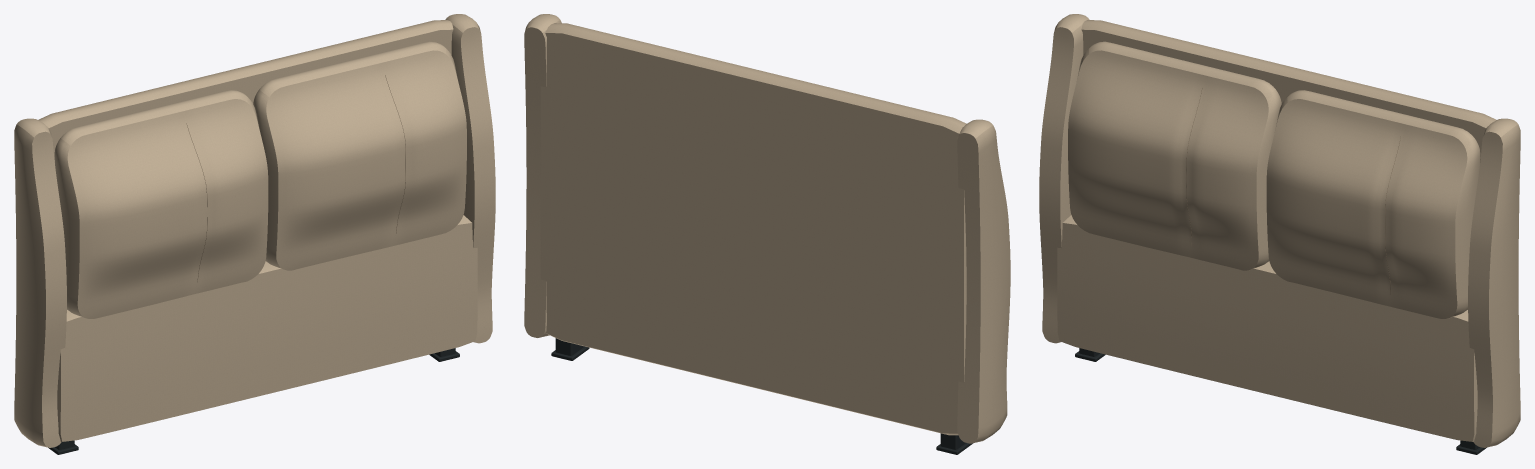
The model's file is 独立落地床屏.glb.
3 views of the same model, side by side, from view 1: azimuth 30°, elevation 25°; view 2: azimuth 150°, elevation 25°; view 3: azimuth 330°, elevation 25° (orthographic).
Parts seen in each view (by area): view 1: Floor_Upholstered_Apron, Back_Cushion_Left, Back_Cushion_Right, Curved_Wing_Left, Headboard_Standing_Back_Frame, Curved_Wing_Right; view 2: Headboard_Standing_Back_Frame, Curved_Wing_Left, Curved_Wing_Right; view 3: Floor_Upholstered_Apron, Back_Cushion_Right, Back_Cushion_Left, Curved_Wing_Right, Headboard_Standing_Back_Frame, Curved_Wing_Left.
Part boxes in pixels (x1=…): Floor_Upholstered_Apron: x1=57, y1=215, x2=477, y2=441; Back_Cushion_Left: x1=54, y1=90, x2=268, y2=318; Back_Cushion_Right: x1=253, y1=41, x2=466, y2=270; Curved_Wing_Left: x1=14, y1=118, x2=66, y2=447; Headboard_Standing_Back_Frame: x1=38, y1=20, x2=453, y2=162; Curved_Wing_Right: x1=445, y1=14, x2=495, y2=343; Headboard_Standing_Back_Frame: x1=540, y1=23, x2=966, y2=435; Curved_Wing_Left: x1=957, y1=119, x2=1010, y2=443; Curved_Wing_Right: x1=524, y1=14, x2=561, y2=337; Floor_Upholstered_Apron: x1=1057, y1=215, x2=1477, y2=441; Back_Cushion_Right: x1=1266, y1=90, x2=1480, y2=318; Back_Cushion_Left: x1=1068, y1=41, x2=1281, y2=270; Curved_Wing_Right: x1=1468, y1=118, x2=1520, y2=447; Headboard_Standing_Back_Frame: x1=1081, y1=20, x2=1496, y2=162; Curved_Wing_Left: x1=1039, y1=14, x2=1089, y2=343.
Bounding box in the file's own units: 1.82 × 1.25 × 0.278.
Materials: 3 (1 with a texture image).
